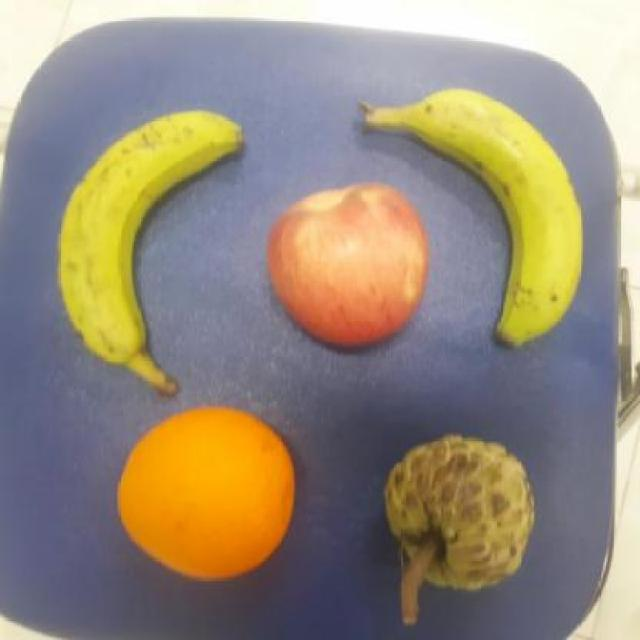apple: (266, 179, 434, 339)
banana: (360, 86, 582, 346), (56, 108, 245, 384)
oren: (114, 404, 295, 581)
sugar apple: (384, 433, 534, 590)
